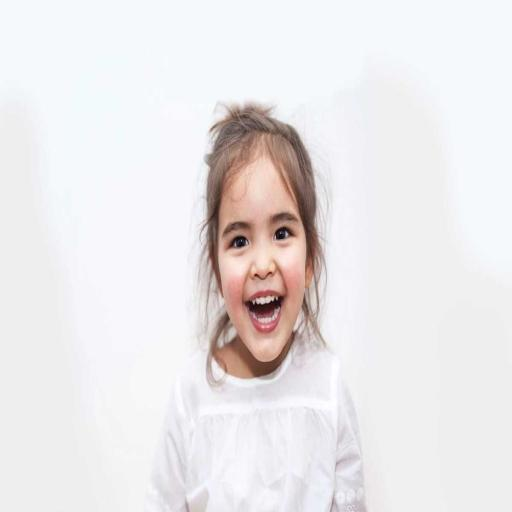bus_stop: (146, 104, 366, 511)
